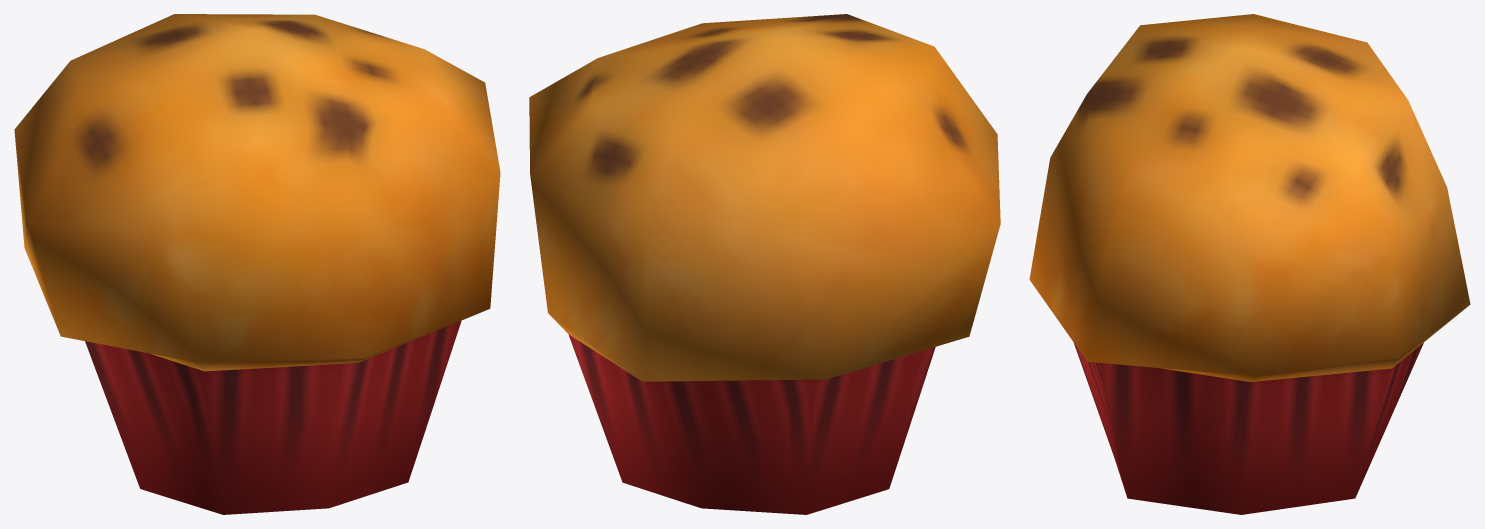
Rendered from Muffin.fbx.
The picture shows the model from 3 angles, left to right: view 1: azimuth 30°, elevation 25°; view 2: azimuth 150°, elevation 25°; view 3: azimuth 270°, elevation 25°; orthographic projection. The views are drawn at different scales.
Visible parts, largest first — view 1: Muffin; view 2: Muffin; view 3: Muffin.
Part boxes in pixels (x1,y1,x2,y2): Muffin: (14,14,500,514); Muffin: (529,14,1000,514); Muffin: (1029,14,1470,514).
Bounding box in the file's own units: 167 × 147 × 145.
